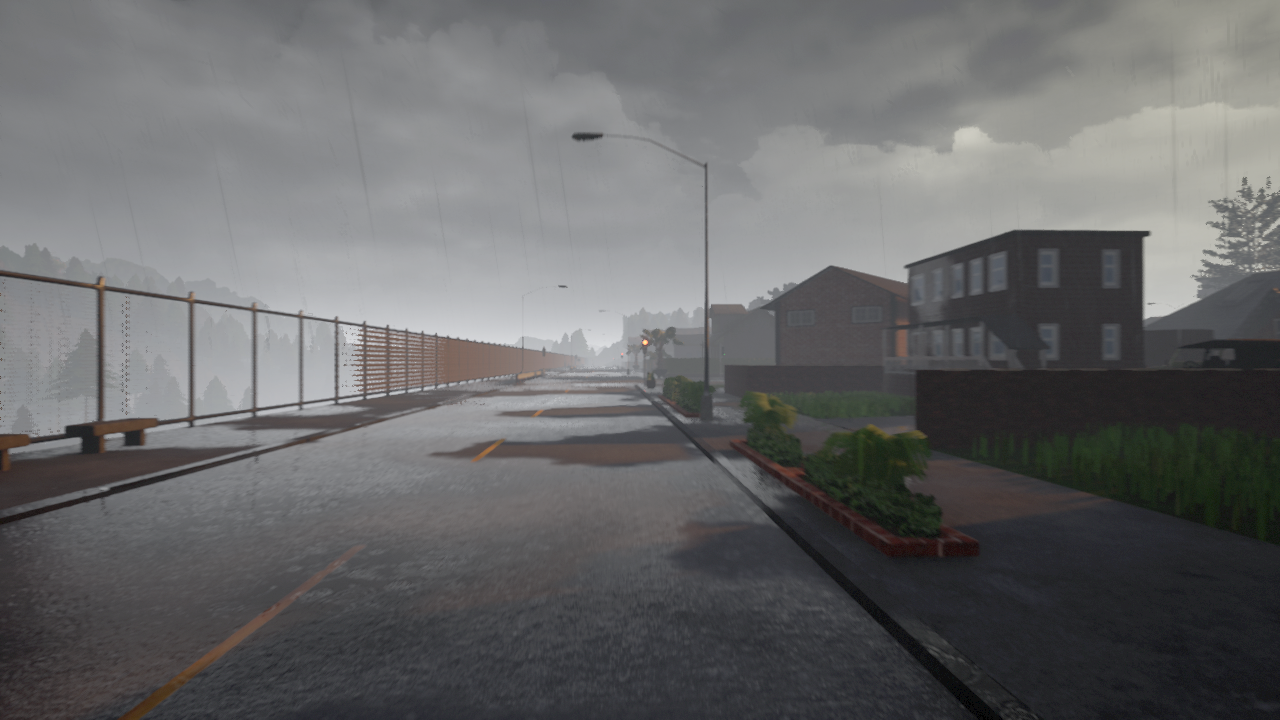red: (641, 338, 647, 355)
